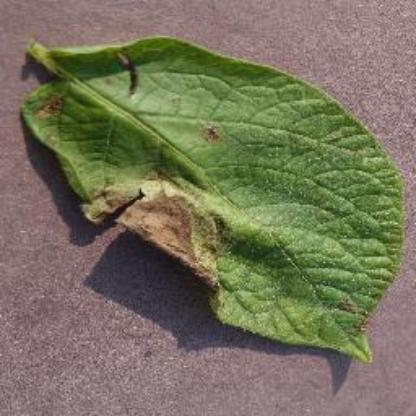Late-Blight: (13, 26, 408, 388)
